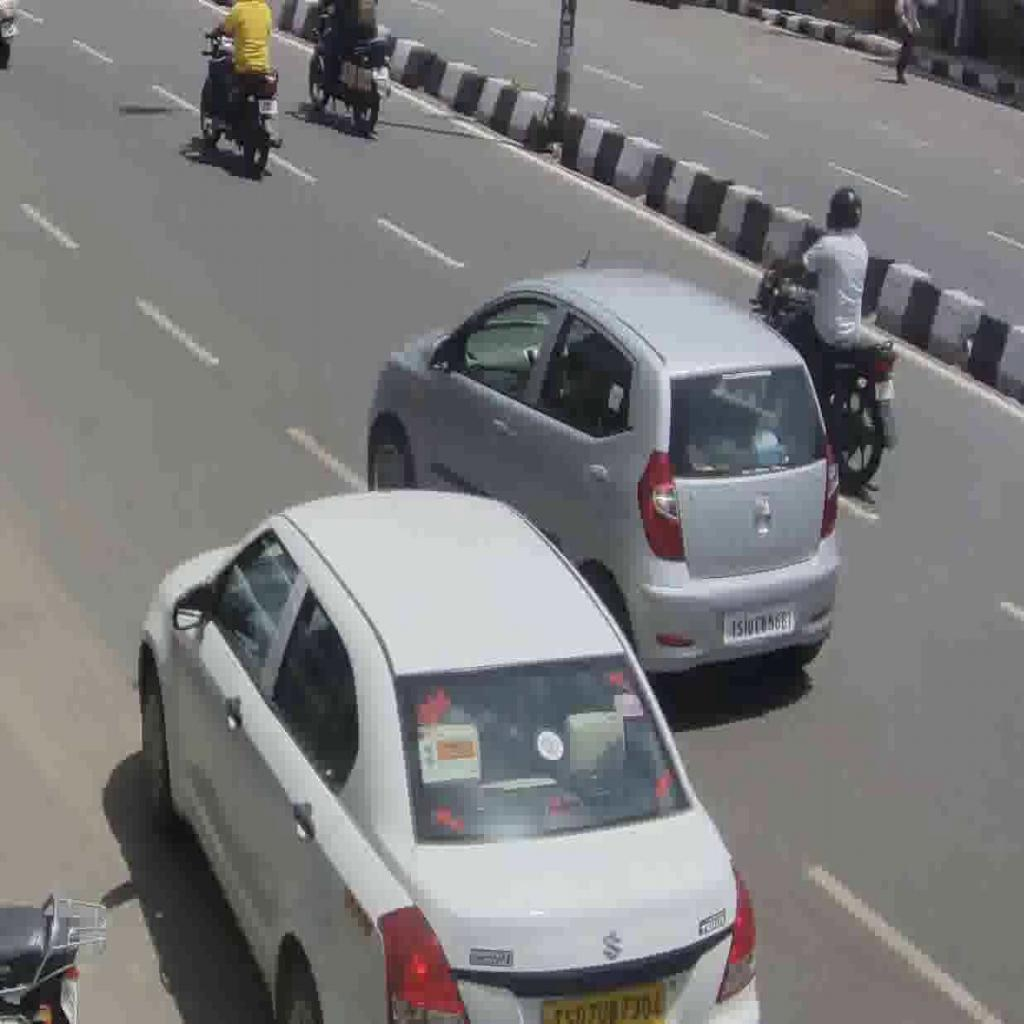bike: (750, 254, 898, 494), (199, 20, 284, 177), (308, 7, 392, 138)
helmet: (824, 182, 863, 234)
lisc: (875, 378, 895, 400), (259, 99, 278, 115)
rider: (763, 182, 869, 378)
